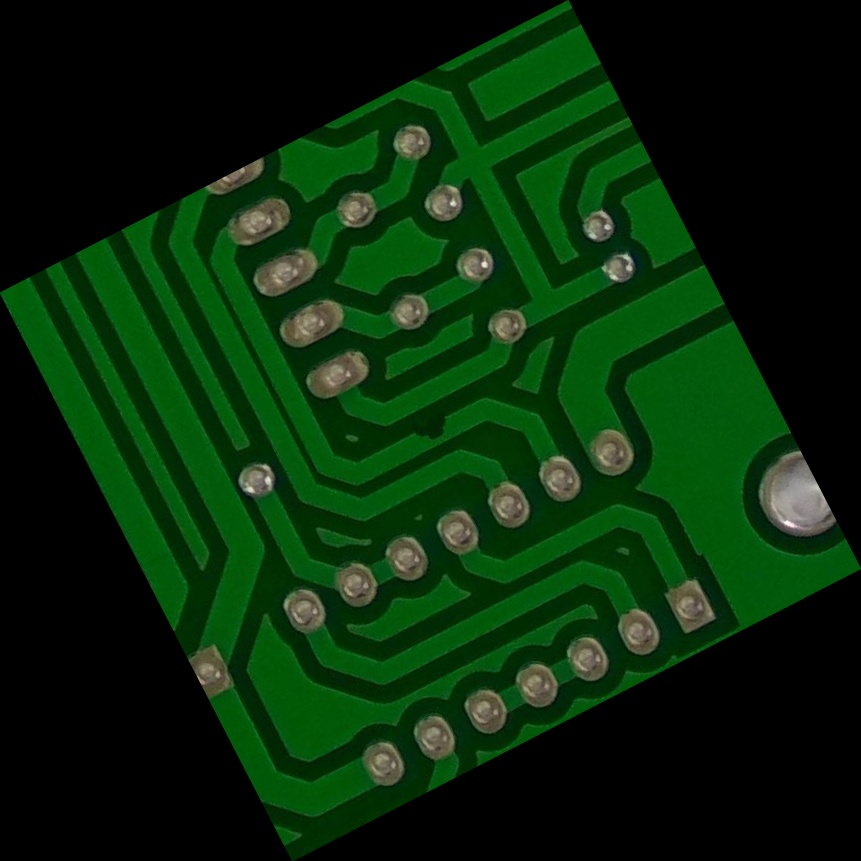mouse_bite: (394, 399, 468, 462)
